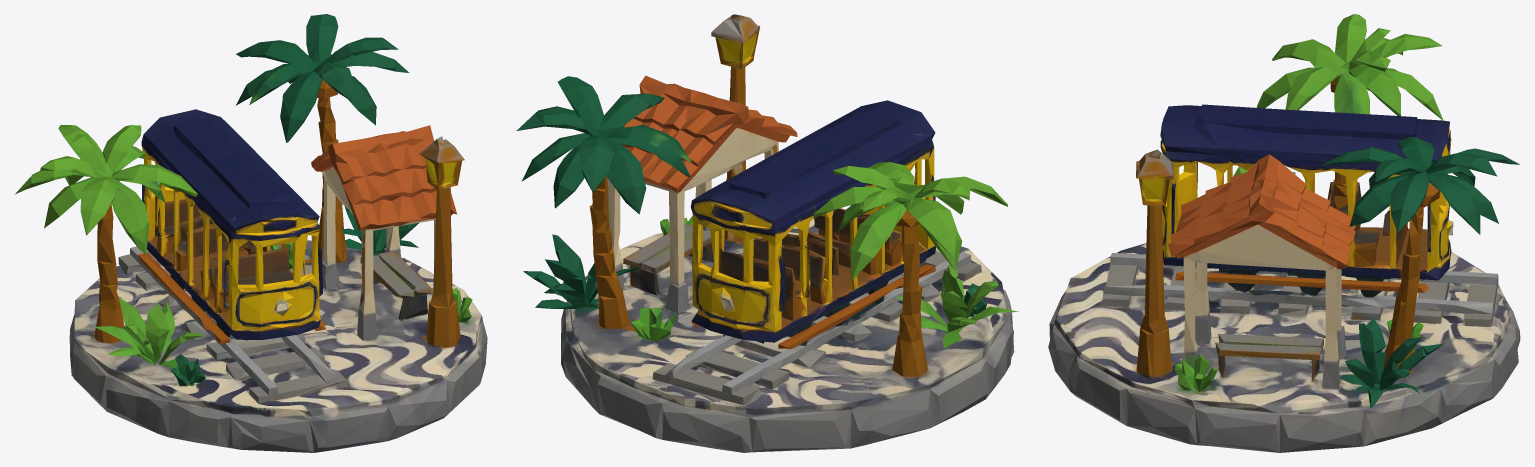
File: rio-bonde.glb
3 views of the same model, side by side, from view 1: azimuth 30°, elevation 25°; view 2: azimuth 150°, elevation 25°; view 3: azimuth 270°, elevation 25° (orthographic). The views are drawn at different scales.
Parts seen in each view (by area): view 1: tripo_node_624a0dfa-6685-40e1-a086-1e4cb01767b1; view 2: tripo_node_624a0dfa-6685-40e1-a086-1e4cb01767b1; view 3: tripo_node_624a0dfa-6685-40e1-a086-1e4cb01767b1.
Boxes of the visible parts, x1=… form: tripo_node_624a0dfa-6685-40e1-a086-1e4cb01767b1: x1=15, y1=14, x2=487, y2=452; tripo_node_624a0dfa-6685-40e1-a086-1e4cb01767b1: x1=516, y1=14, x2=1018, y2=452; tripo_node_624a0dfa-6685-40e1-a086-1e4cb01767b1: x1=1048, y1=14, x2=1520, y2=452.
Bounding box in the file's own units: 0.9988 × 0.6158 × 0.9623.
Materials: 1 (1 with a texture image).
